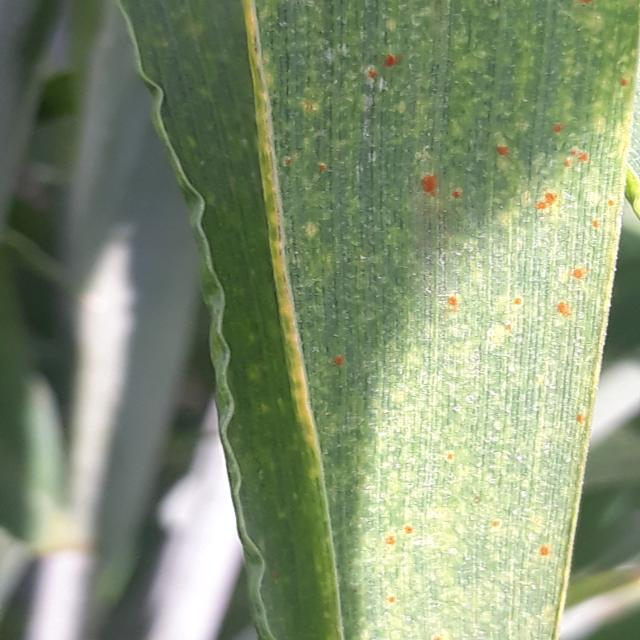orang_rust: (106, 3, 640, 640)
